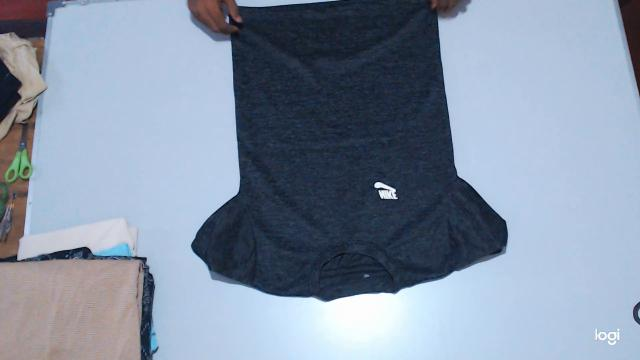new-garment: (192, 0, 507, 299)
